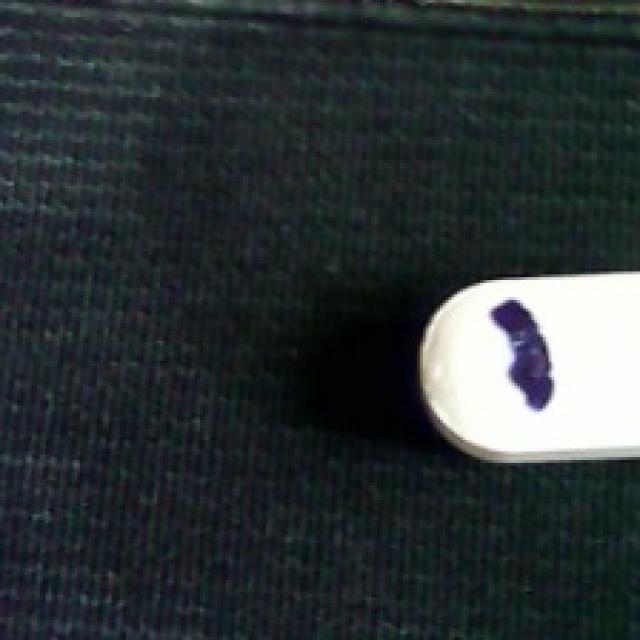defected: (412, 266, 637, 468)
